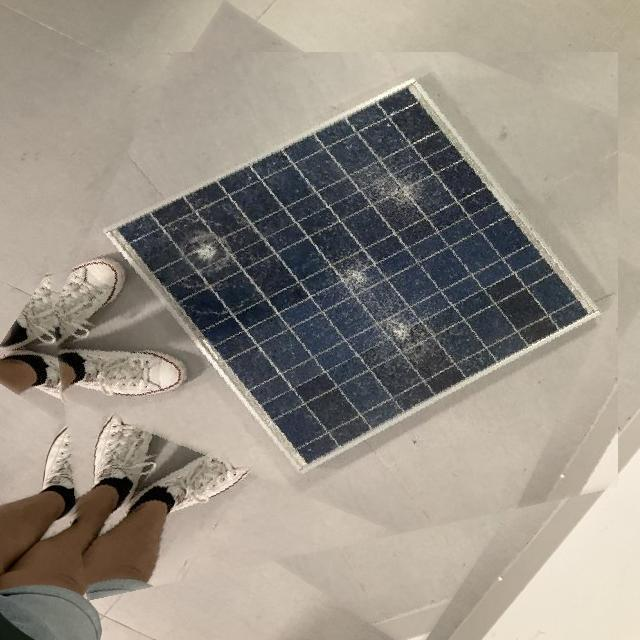Anomaly Solar Panel: (110, 84, 596, 474)
Structural Damage: (312, 248, 426, 364), (182, 220, 244, 290), (362, 162, 434, 220)
